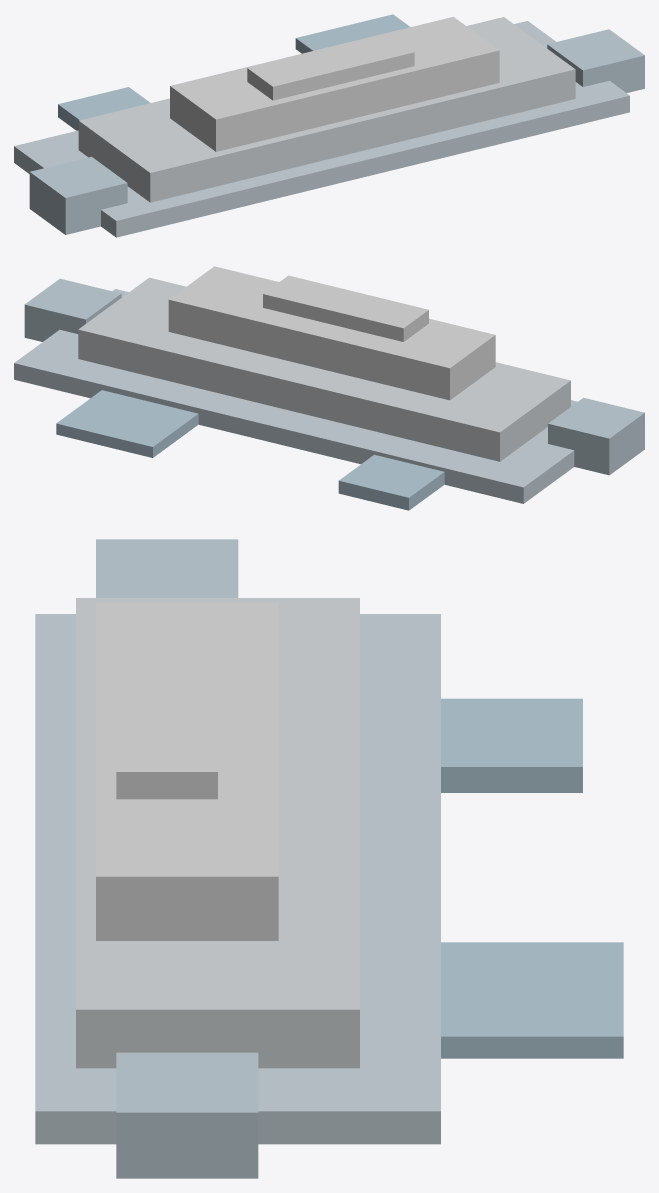
File: kr-falls-foam.glb
3 views of the same model, one above another, from view 1: azimuth 30°, elevation 25°; view 2: azimuth 150°, elevation 25°; view 3: azimuth 270°, elevation 25° (orthographic). The views are drawn at different scales.
Parts seen in each view (by area): view 1: box-prop; view 2: box-prop; view 3: box-prop.
Boxes of the visible parts, bbox=[...] form: box-prop: bbox=[14, 14, 644, 237]; box-prop: bbox=[14, 266, 644, 510]; box-prop: bbox=[35, 539, 623, 1178].
Bounding box in the file's own units: 6.6 × 1 × 2.9.
